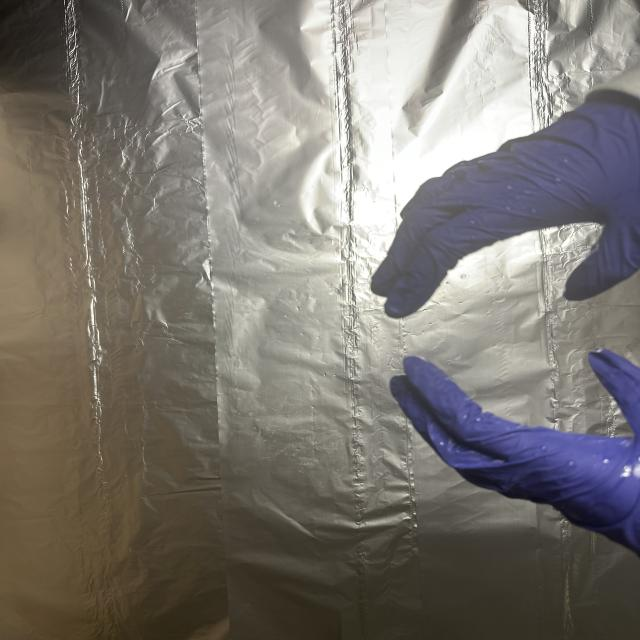gloves_contaminated: (371, 65, 640, 318), (390, 349, 640, 554)
